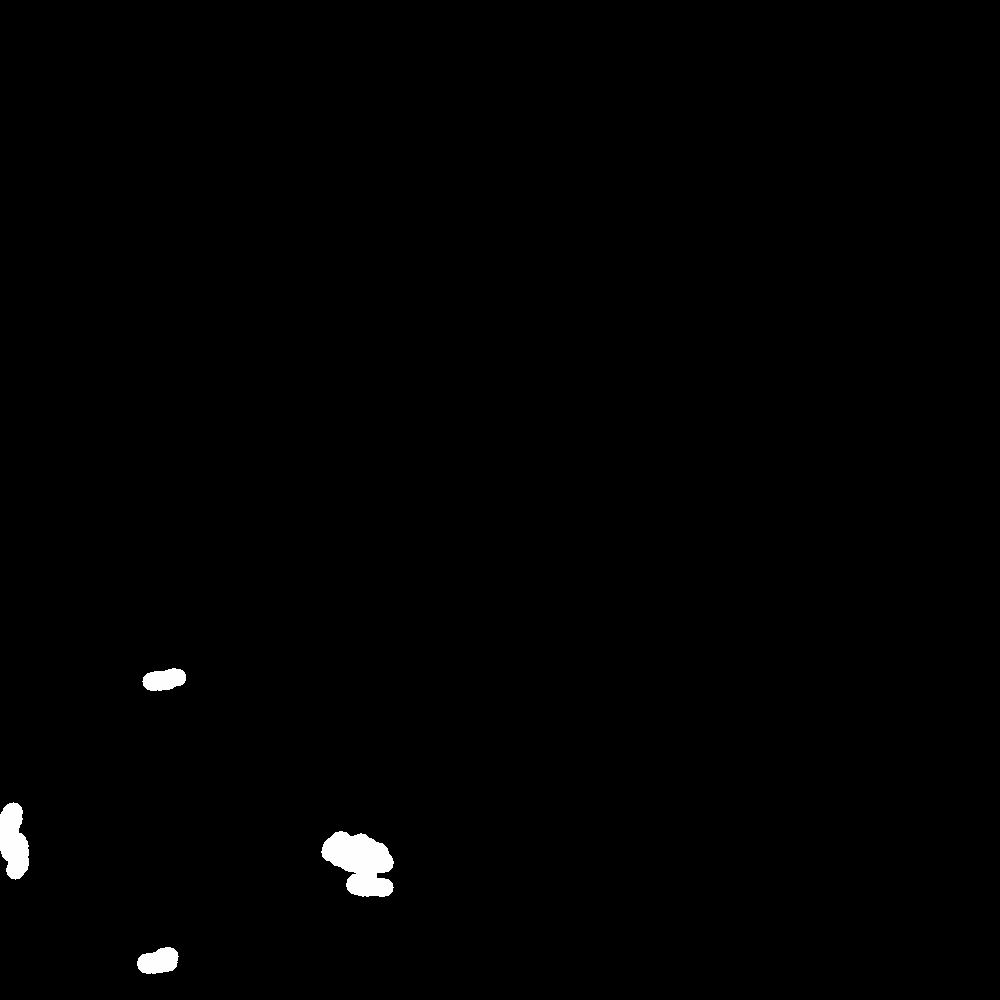illegal: (317, 829, 407, 893), (152, 952, 194, 972)
